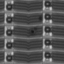dust: (38, 14, 42, 21), (30, 29, 34, 34), (33, 27, 40, 29)
